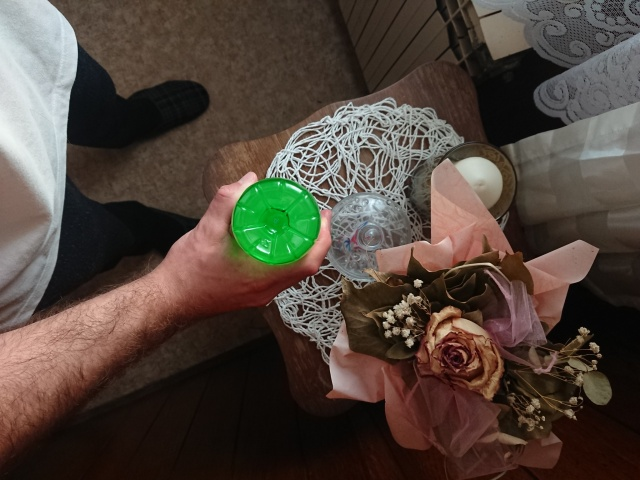Vindi Iso Sport Lemon-Grapefruit 500mL: (227, 175, 324, 269)
